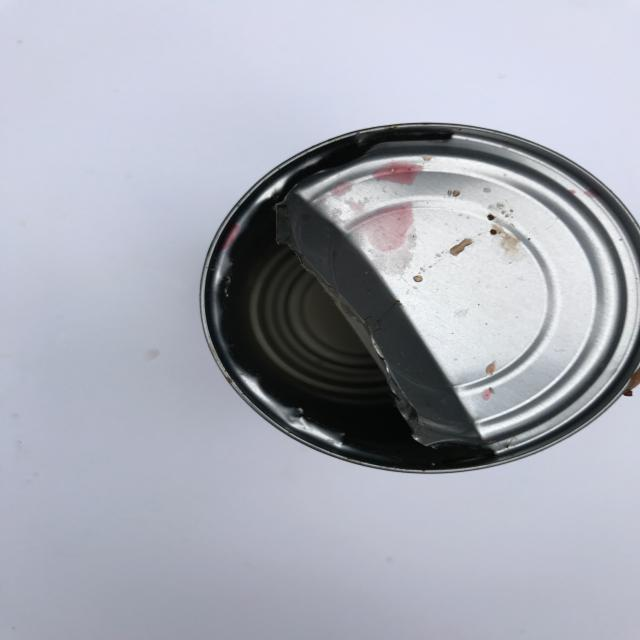metal: (199, 121, 639, 474)
